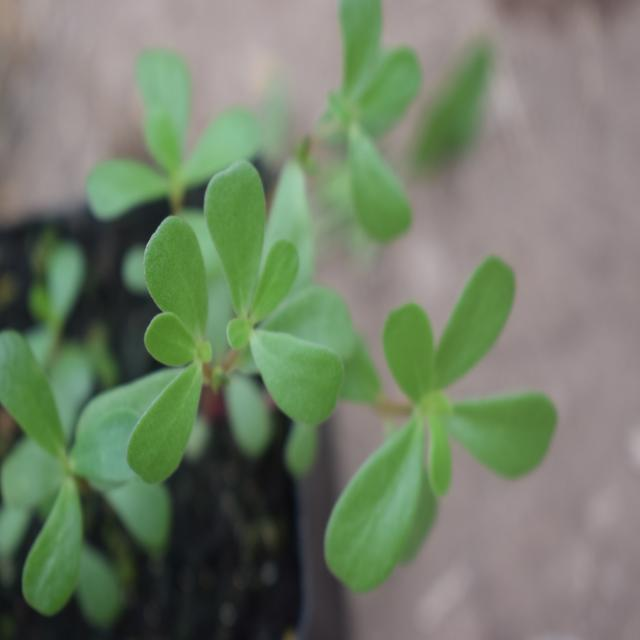purslane: (10, 133, 543, 582)
